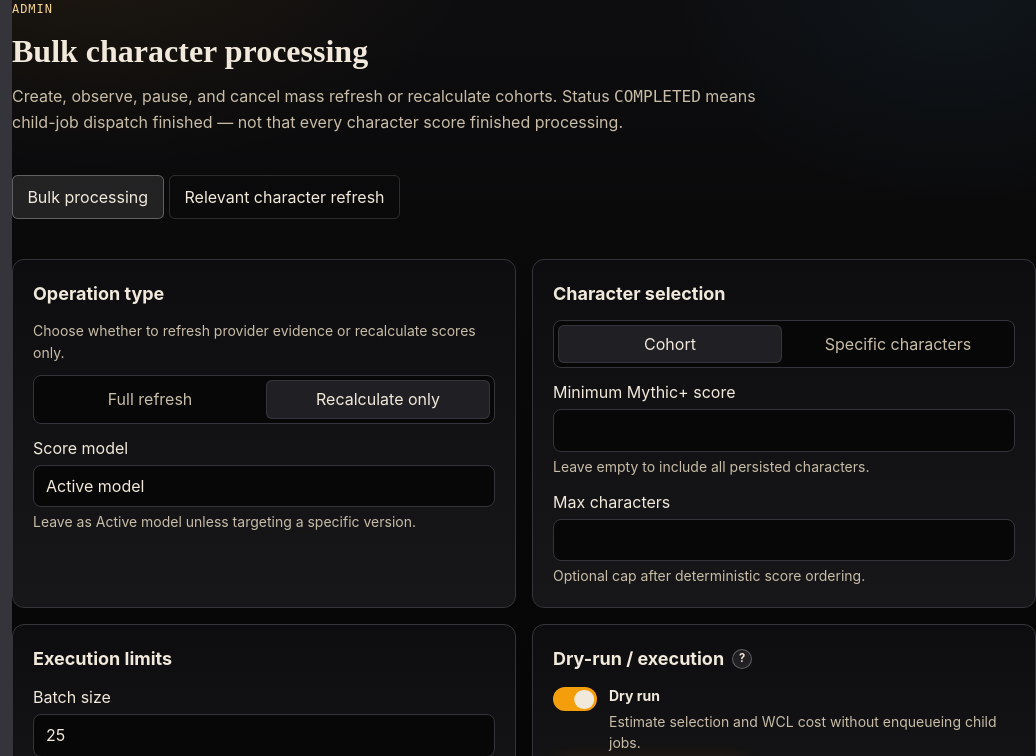
Test case: AdminBulkProcessingPage › blocks submission for invalid numeric input
The width and height of the screenshot is (1036, 756).
Type "not-a-number" into the field with test id "bulk-min-score" at x=784, y=431, box 553,409 -> 1015,452
(page scrolled)
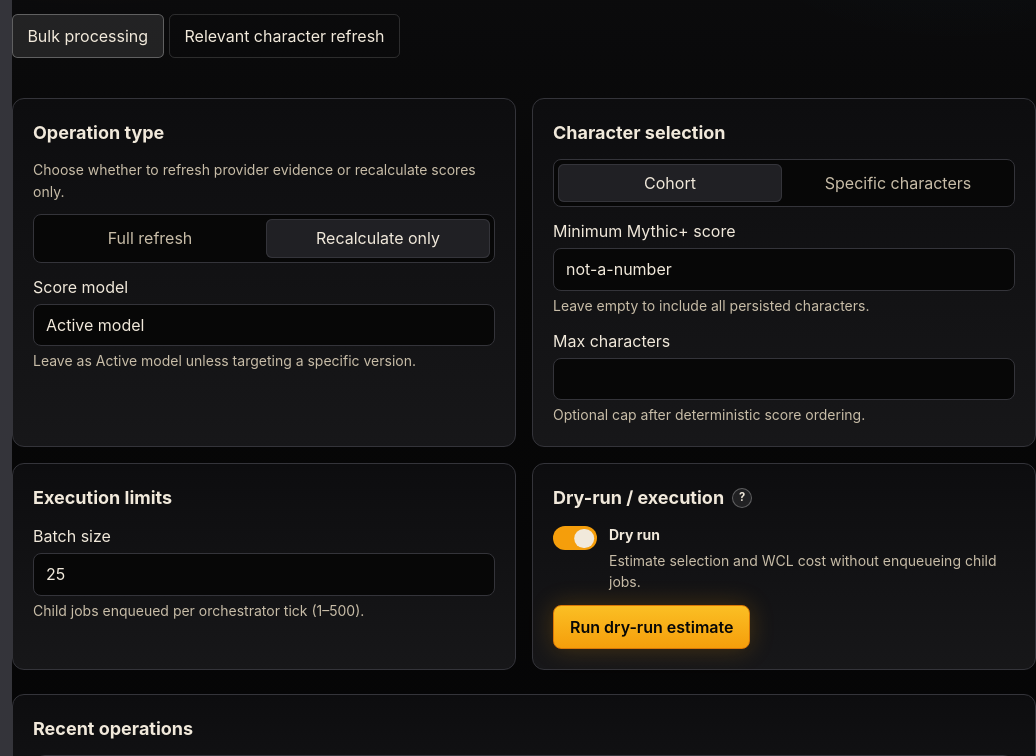
Submit the form with test id "bulk-create-form"
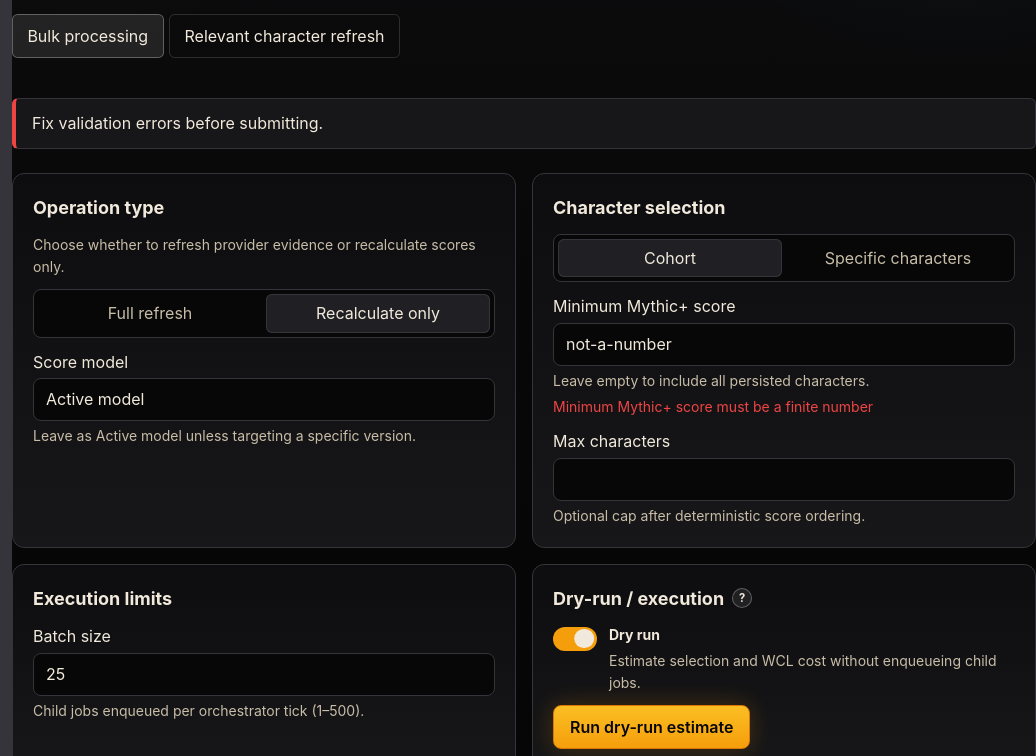
Result: the text "Fix validation errors before submitting." is shown at 32,113 -> 323,133
